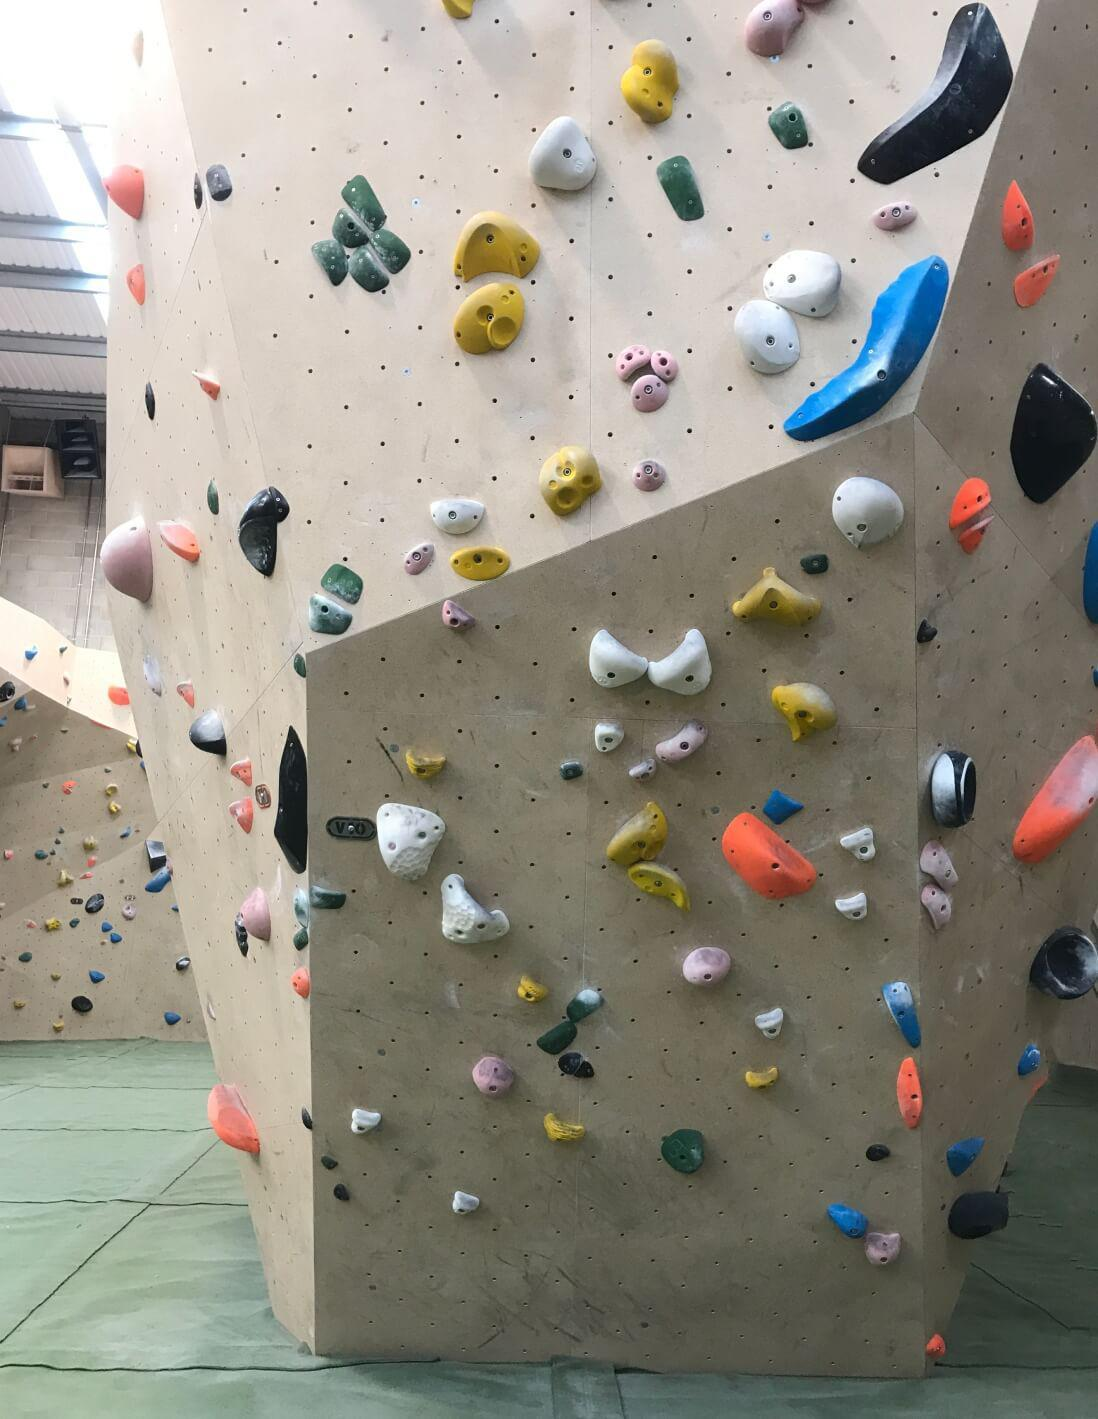hold: (782, 255, 949, 442), (856, 2, 1014, 185), (1009, 362, 1098, 504), (1013, 736, 1098, 866), (722, 812, 817, 901), (454, 211, 540, 282), (732, 564, 823, 627), (831, 476, 904, 551), (377, 802, 446, 881), (763, 249, 842, 318), (273, 724, 309, 875), (440, 872, 512, 946), (528, 115, 598, 190), (1029, 925, 1098, 1001), (453, 281, 524, 354), (621, 38, 680, 123), (735, 299, 800, 374), (539, 445, 604, 517), (100, 516, 153, 602), (646, 628, 712, 696), (770, 682, 840, 744), (606, 800, 668, 865), (207, 1083, 262, 1153), (931, 751, 977, 829), (589, 628, 649, 688), (238, 488, 278, 576), (627, 862, 692, 912), (656, 155, 705, 221), (947, 1192, 1009, 1239), (880, 979, 921, 1048), (1014, 253, 1062, 308), (1000, 180, 1037, 250), (342, 175, 386, 233), (654, 719, 710, 762), (103, 164, 145, 220), (948, 477, 992, 529), (449, 545, 510, 580), (919, 840, 960, 893), (682, 944, 732, 987), (430, 498, 485, 536), (896, 1056, 924, 1131), (768, 101, 810, 150), (661, 1129, 705, 1174), (348, 245, 389, 291), (370, 229, 411, 275), (188, 707, 228, 754), (471, 1055, 515, 1098), (309, 594, 354, 635), (945, 1136, 986, 1178), (311, 240, 349, 286), (240, 887, 272, 941), (320, 564, 363, 605), (160, 523, 200, 562), (825, 1201, 868, 1238), (762, 789, 805, 825), (1083, 521, 1098, 624), (630, 374, 671, 412), (959, 514, 995, 555), (536, 1020, 578, 1055), (921, 882, 952, 929), (404, 749, 447, 782), (871, 200, 918, 230), (840, 826, 878, 863), (332, 208, 369, 246), (543, 1111, 586, 1143), (864, 1231, 902, 1267), (615, 344, 651, 381), (567, 988, 605, 1022), (631, 458, 666, 492), (441, 599, 476, 631), (754, 1007, 786, 1040), (516, 974, 552, 1004), (743, 1064, 781, 1092), (309, 885, 348, 911), (227, 797, 255, 834), (403, 542, 434, 575), (206, 164, 233, 200), (191, 370, 222, 401), (834, 891, 868, 920), (595, 722, 624, 753), (143, 650, 162, 697), (1017, 1040, 1042, 1076), (651, 350, 679, 381), (350, 1108, 383, 1135), (126, 264, 145, 305), (452, 1190, 480, 1216), (628, 757, 658, 782), (270, 486, 290, 522), (144, 866, 171, 894), (293, 889, 310, 928), (924, 1333, 947, 1361), (440, 0, 476, 18), (800, 553, 830, 575), (234, 912, 249, 956), (290, 966, 310, 997), (230, 759, 252, 787), (175, 678, 195, 708), (107, 684, 131, 706), (559, 1053, 583, 1073), (917, 619, 938, 643), (559, 760, 584, 780), (131, 30, 144, 67), (865, 1144, 891, 1161), (206, 480, 219, 515), (293, 927, 310, 950), (145, 382, 156, 420), (85, 894, 105, 913), (71, 996, 93, 1014), (294, 653, 308, 680), (575, 1060, 595, 1078), (55, 870, 75, 888), (0, 681, 16, 703), (301, 1105, 315, 1130), (194, 172, 203, 208), (121, 902, 137, 921), (333, 1183, 350, 1200), (320, 1155, 339, 1171), (45, 917, 65, 932), (24, 644, 39, 662), (82, 836, 98, 852), (164, 1012, 182, 1026), (105, 783, 120, 799), (107, 800, 123, 815), (61, 781, 78, 795), (7, 737, 22, 752), (175, 956, 191, 970), (89, 970, 105, 984), (206, 1000, 217, 1020), (14, 697, 28, 711), (120, 825, 132, 840), (84, 855, 98, 867), (33, 849, 48, 860), (166, 856, 174, 877), (52, 1020, 65, 1033), (18, 951, 32, 963), (22, 704, 38, 713), (3, 849, 15, 862), (1091, 667, 1098, 688), (78, 872, 96, 880), (0, 713, 9, 728), (111, 933, 123, 943), (50, 972, 62, 982), (14, 999, 26, 1009), (136, 739, 143, 758), (127, 738, 136, 752), (101, 923, 113, 933), (69, 918, 79, 928), (26, 919, 38, 928), (62, 675, 70, 688), (59, 646, 68, 655), (0, 901, 8, 911), (169, 904, 179, 912), (31, 734, 40, 742), (60, 728, 70, 735), (56, 826, 65, 834), (118, 877, 126, 885), (41, 782, 51, 789), (99, 939, 108, 946), (139, 760, 145, 771), (104, 767, 112, 774), (54, 837, 61, 844), (50, 849, 56, 856), (66, 696, 71, 704)
volume: (145, 840, 166, 874)
